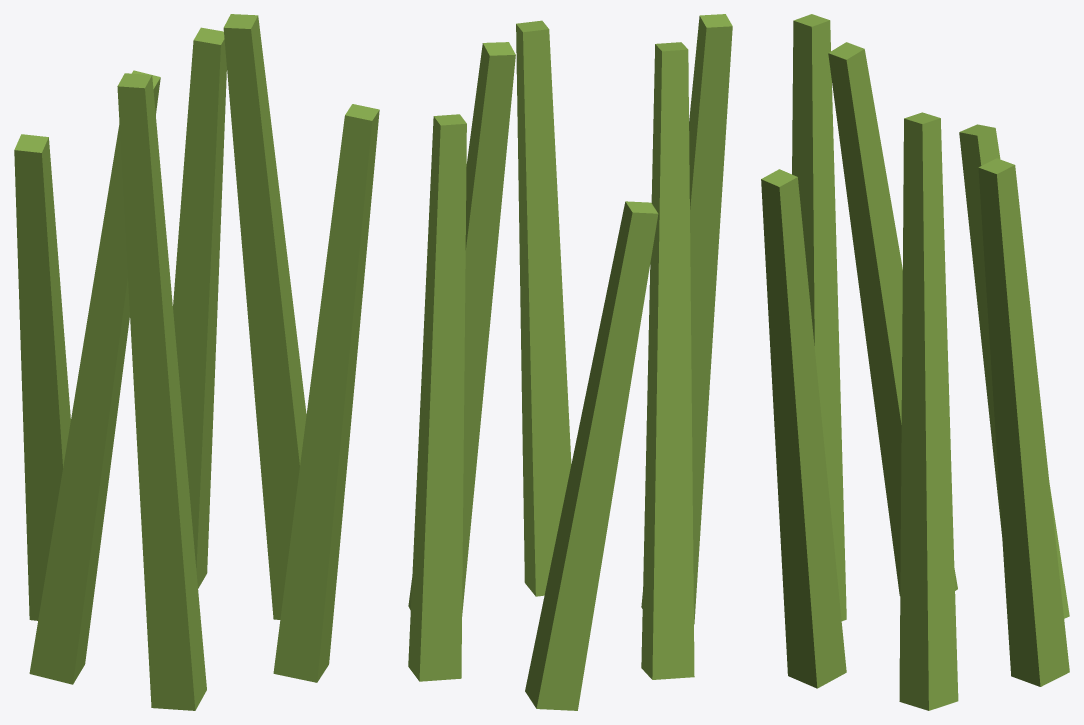
The model's file is crop_wheat_1.glb.
The picture shows the model from 3 angles, left to right: view 1: azimuth 30°, elevation 25°; view 2: azimuth 150°, elevation 25°; view 3: azimuth 270°, elevation 25°; orthographic projection. The views are drawn at different scales.
Visible parts, largest first — view 1: crop_wheat_1; view 2: crop_wheat_1; view 3: crop_wheat_1.
Boxes of the visible parts, x1,y1,x2,y2 form: crop_wheat_1: [14, 14, 379, 710]; crop_wheat_1: [408, 14, 732, 710]; crop_wheat_1: [761, 14, 1069, 710].
Bounding box in the file's own units: 0.0859 × 0.1747 × 0.0839.
